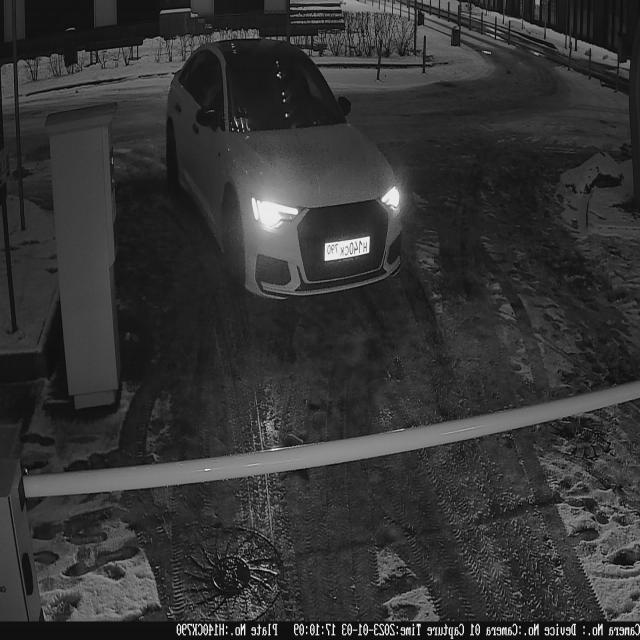car-plate-numbers: (323, 232, 374, 266)
